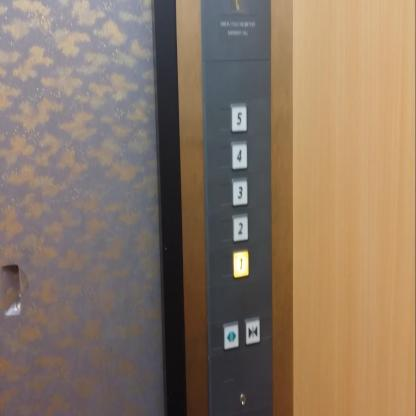1: (233, 249, 249, 280)
2: (232, 213, 249, 244)
3: (231, 177, 248, 207)
4: (230, 140, 248, 170)
5: (231, 102, 247, 133)
close: (244, 315, 260, 346)
keyhole: (240, 392, 245, 406)
open: (222, 320, 240, 351)
